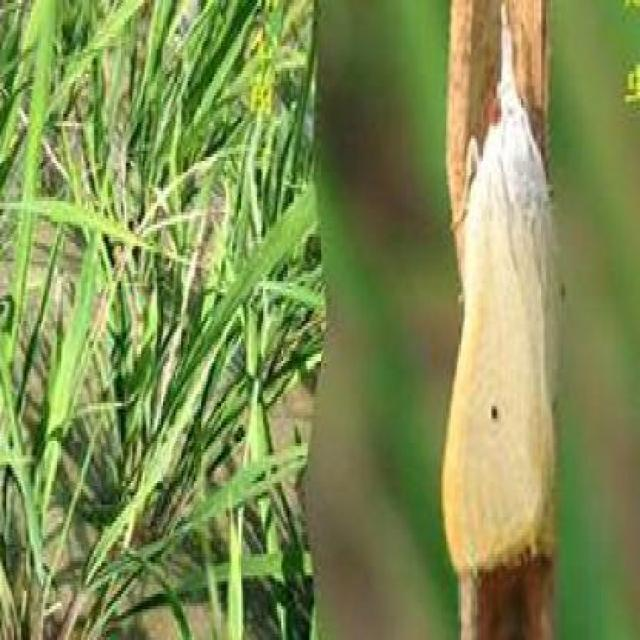stem-borer: (438, 0, 567, 582)
